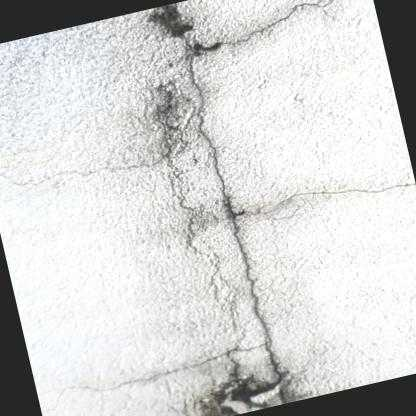crack: (54, 0, 412, 400)
